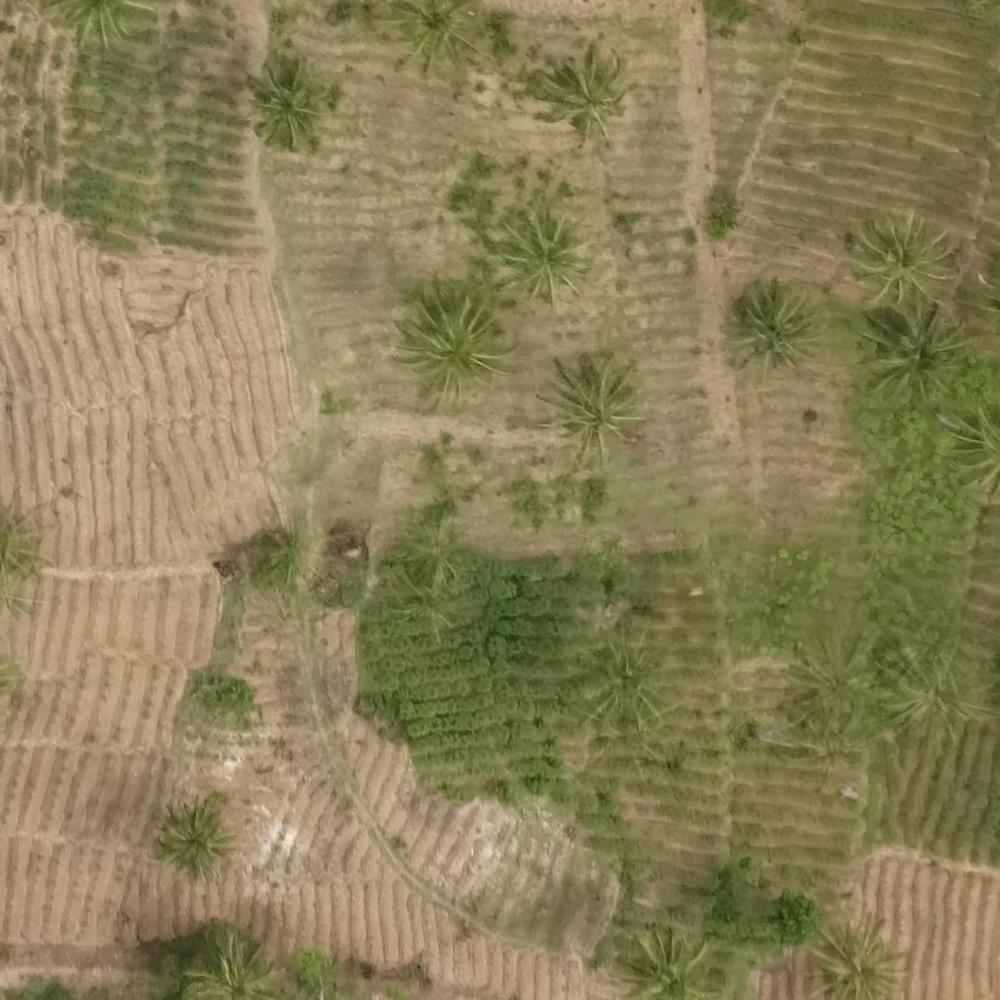Palm: (397, 288, 512, 399), (861, 304, 963, 401), (540, 355, 635, 458), (374, 1, 491, 83), (854, 214, 948, 308), (495, 204, 586, 299), (536, 43, 624, 139), (610, 923, 714, 1000), (731, 278, 820, 366), (800, 921, 900, 999), (242, 63, 327, 146), (153, 800, 234, 878)
